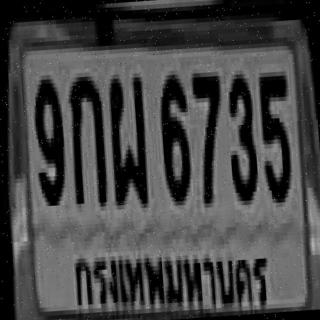A01: (65, 72, 106, 204)
A28: (106, 71, 148, 203)
N03: (223, 69, 258, 201)
N05: (257, 71, 292, 199)
N06: (156, 70, 190, 202)
N07: (189, 65, 226, 202)
N09: (31, 74, 66, 202)
P04: (66, 224, 272, 320)
